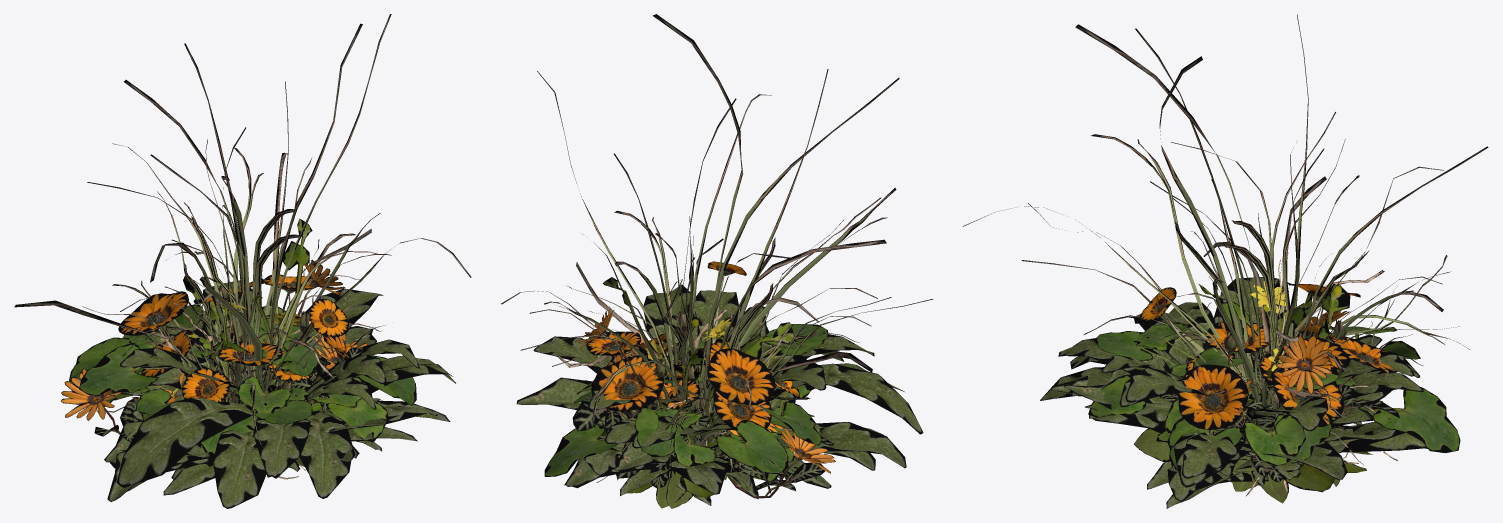
The model's file is flora-real.glb.
3 renders of one model, left to right at view 1: azimuth 30°, elevation 25°; view 2: azimuth 150°, elevation 25°; view 3: azimuth 270°, elevation 25°, orthographic. The views are drawn at different scales.
Visible parts, largest first — view 1: gazania_h, grass_e, gazania_g, celandine_a, gazania_f, celandine_b, grass_d, ursinia_c, celandine_d, grass_c, gazania_e, gazania_d (+3 smaller); view 2: gazania_h, grass_e, gazania_g, gazania_f, celandine_b, ursinia_c, celandine_a, grass_d, celandine_d, grass_c, celandine_e, gazania_b (+6 smaller); view 3: gazania_h, grass_e, celandine_b, gazania_f, gazania_g, celandine_a, grass_d, ursinia_c, gazania_e, celandine_d, dandelion_e, grass_c (+4 smaller).
Boxes of the visible parts, bbox=[...] form: gazania_h: bbox=[117, 274, 452, 498]; grass_e: bbox=[14, 14, 471, 448]; gazania_g: bbox=[107, 278, 376, 508]; celandine_a: bbox=[79, 218, 416, 405]; gazania_f: bbox=[127, 311, 455, 491]; celandine_b: bbox=[69, 295, 388, 452]; grass_d: bbox=[104, 139, 384, 479]; ursinia_c: bbox=[61, 259, 367, 447]; celandine_d: bbox=[103, 300, 361, 433]; grass_c: bbox=[145, 205, 359, 402]; gazania_e: bbox=[149, 337, 437, 424]; gazania_d: bbox=[163, 340, 380, 495]; gazania_h: bbox=[516, 261, 923, 495]; grass_e: bbox=[501, 14, 899, 482]; gazania_g: bbox=[594, 329, 906, 468]; gazania_f: bbox=[591, 334, 875, 494]; celandine_b: bbox=[544, 318, 819, 476]; ursinia_c: bbox=[572, 306, 835, 498]; celandine_a: bbox=[574, 277, 821, 466]; grass_d: bbox=[520, 220, 932, 498]; celandine_d: bbox=[645, 318, 828, 481]; grass_c: bbox=[552, 216, 891, 446]; celandine_e: bbox=[634, 341, 793, 462]; gazania_b: bbox=[564, 400, 831, 488]; gazania_h: bbox=[1040, 277, 1414, 508]; grass_e: bbox=[963, 14, 1488, 458]; celandine_b: bbox=[1088, 304, 1460, 465]; gazania_f: bbox=[1051, 323, 1423, 489]; gazania_g: bbox=[1070, 335, 1420, 468]; celandine_a: bbox=[1167, 283, 1420, 470]; grass_d: bbox=[1021, 175, 1458, 482]; ursinia_c: bbox=[1159, 310, 1399, 429]; gazania_e: bbox=[1136, 322, 1330, 501]; celandine_d: bbox=[1094, 280, 1356, 432]; dandelion_e: bbox=[1134, 401, 1382, 492]; grass_c: bbox=[1173, 198, 1469, 495].
Bounding box in the file's own units: 0.3653 × 0.4033 × 0.4332.
Materials: 5 (5 with a texture image).
